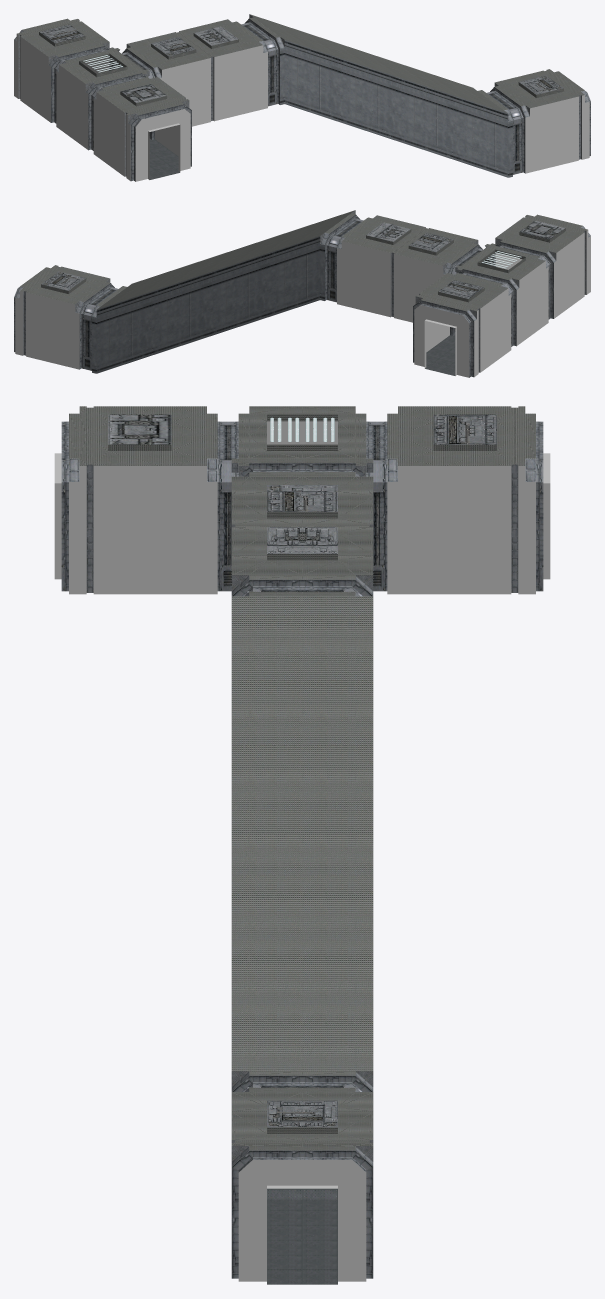
File: poi_all_impl_bunker_warren_s01_r57_hall57_mesh_r57.fbx
The picture shows the model from 3 angles, top to bottom: view 1: azimuth 30°, elevation 25°; view 2: azimuth 150°, elevation 25°; view 3: azimuth 270°, elevation 25°; orthographic projection. The views are drawn at different scales.
Parts seen in each view (by area): view 1: mesh_node; view 2: mesh_node; view 3: mesh_node.
Part boxes in pixels (box(x1,y1,x2,y2)): mesh_node: box(14, 14, 590, 181); mesh_node: box(14, 210, 590, 377); mesh_node: box(54, 406, 550, 1284).
Size of the model in its own units: 33 by 12.2 by 14.
